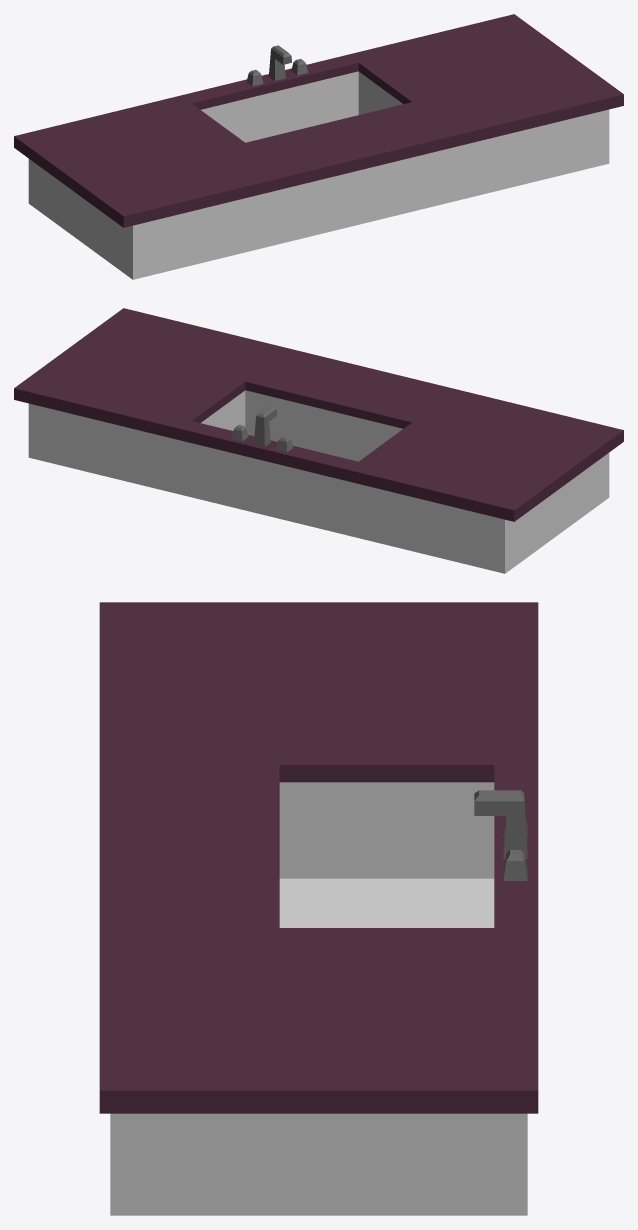
File: Lavabo.fbx
3 renders of one model, top to bottom at view 1: azimuth 30°, elevation 25°; view 2: azimuth 150°, elevation 25°; view 3: azimuth 270°, elevation 25°, orthographic. The views are drawn at different scales.
Parts seen in each view (by area): view 1: Lavabo; view 2: Lavabo; view 3: Lavabo.
Boxes of the visible parts, x1,y1,x2,y2 form: Lavabo: [14, 14, 623, 279]; Lavabo: [14, 308, 623, 573]; Lavabo: [99, 602, 538, 1215].
Size of the model in its own units: 227 by 42.92 by 86.25.
